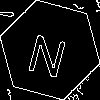N: (25, 25, 72, 79)
